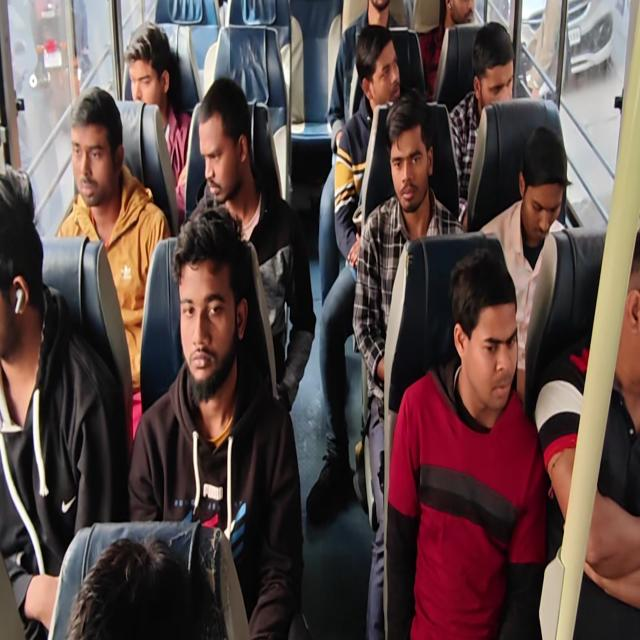person: (64, 524, 232, 640), (171, 200, 258, 408), (450, 234, 529, 440), (1, 157, 52, 370), (68, 82, 144, 216), (518, 121, 578, 262), (384, 85, 441, 231), (191, 81, 255, 209), (601, 224, 640, 406), (352, 23, 408, 124), (468, 15, 529, 104), (122, 14, 172, 113), (441, 0, 498, 25), (365, 0, 406, 30)
